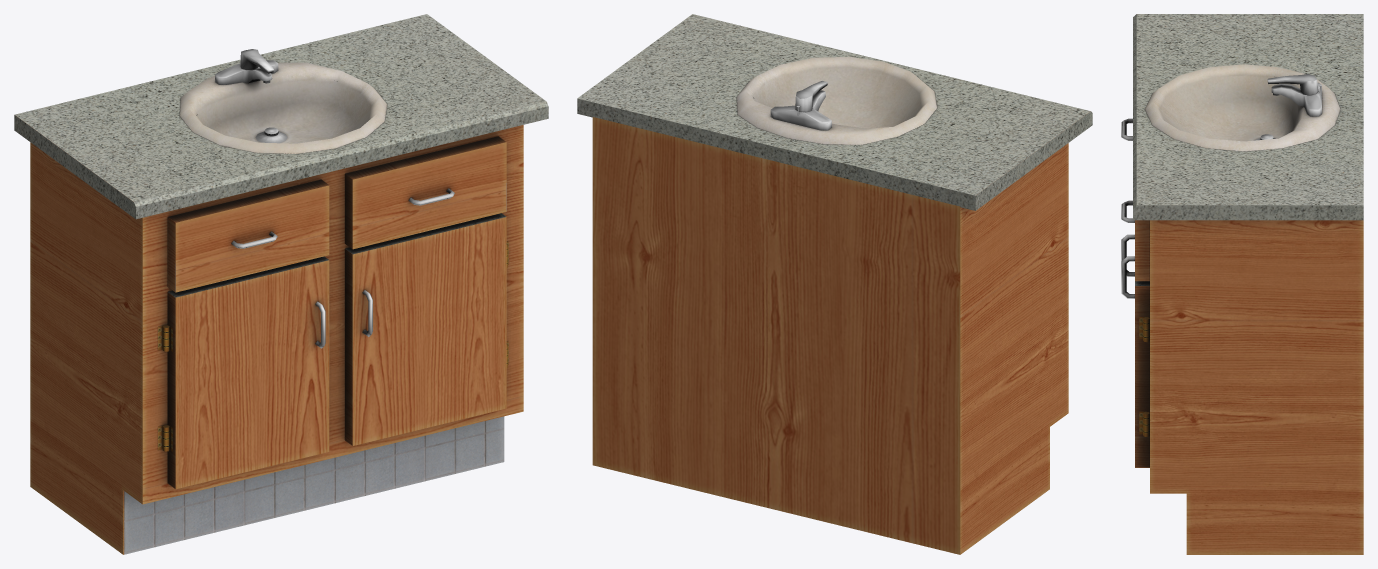
The model's file is bathroom_sink.dae.
The picture shows the model from 3 angles, left to right: view 1: azimuth 30°, elevation 25°; view 2: azimuth 150°, elevation 25°; view 3: azimuth 270°, elevation 25°; orthographic projection. The views are drawn at different scales.
Parts seen in each view (by area): view 1: BathroomSink; view 2: BathroomSink; view 3: BathroomSink.
Part boxes in pixels (left/top/right/bottom): BathroomSink: left=14, top=14, right=548, bottom=554; BathroomSink: left=577, top=14, right=1092, bottom=554; BathroomSink: left=1121, top=14, right=1363, bottom=554.
Size of the model in its own units: 110 by 59.05 by 105.
